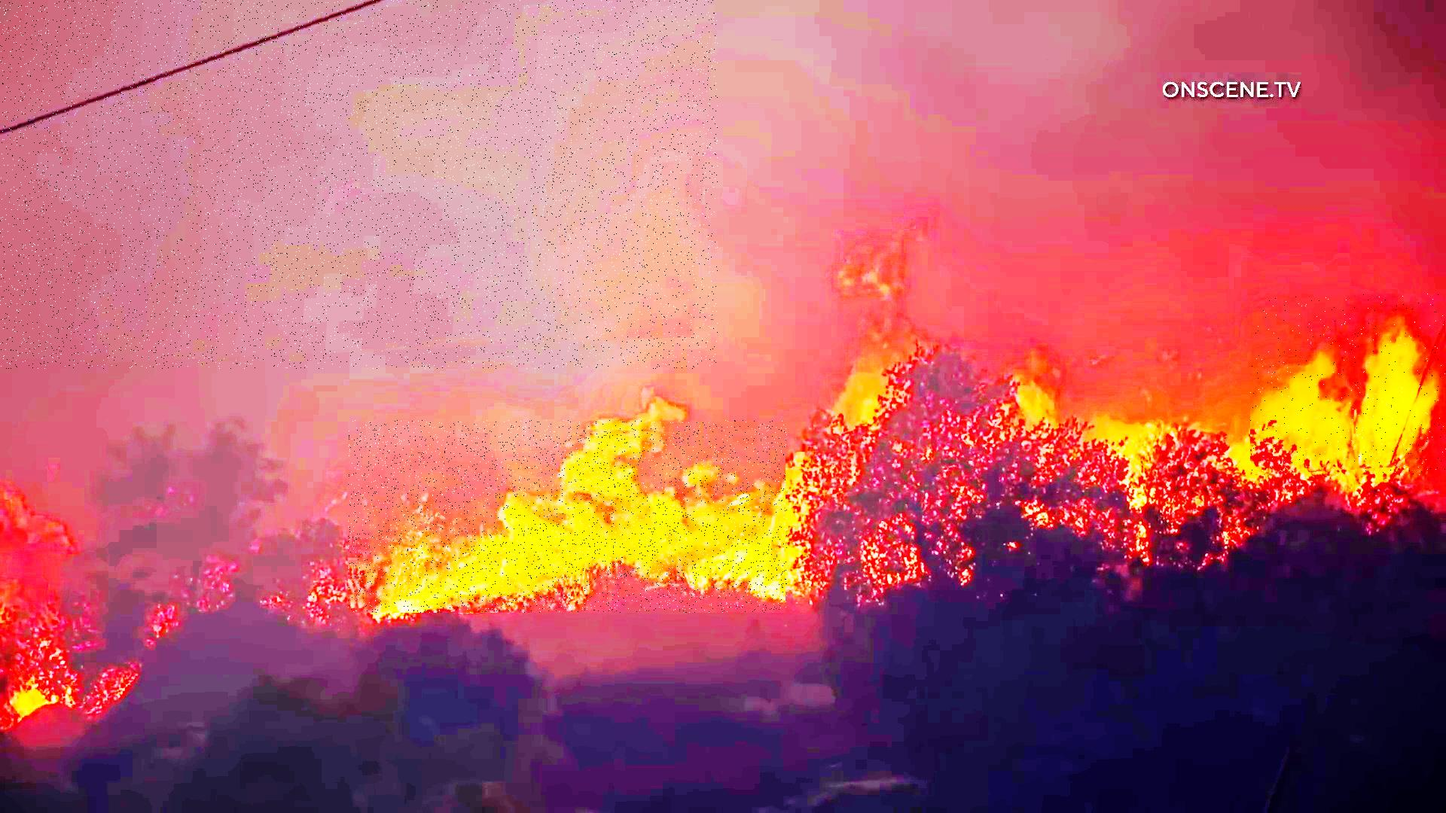fire: (349, 420, 788, 613), (1250, 294, 1446, 476)
smoke: (0, 0, 718, 369)
